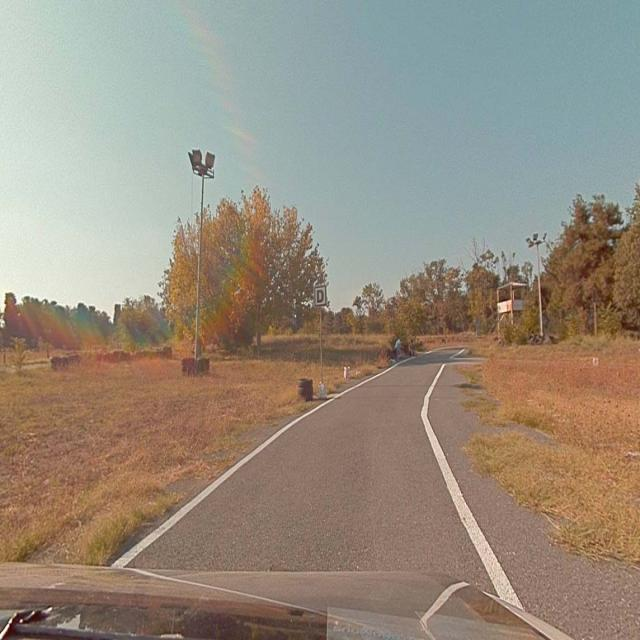durak: (314, 286, 326, 305)
